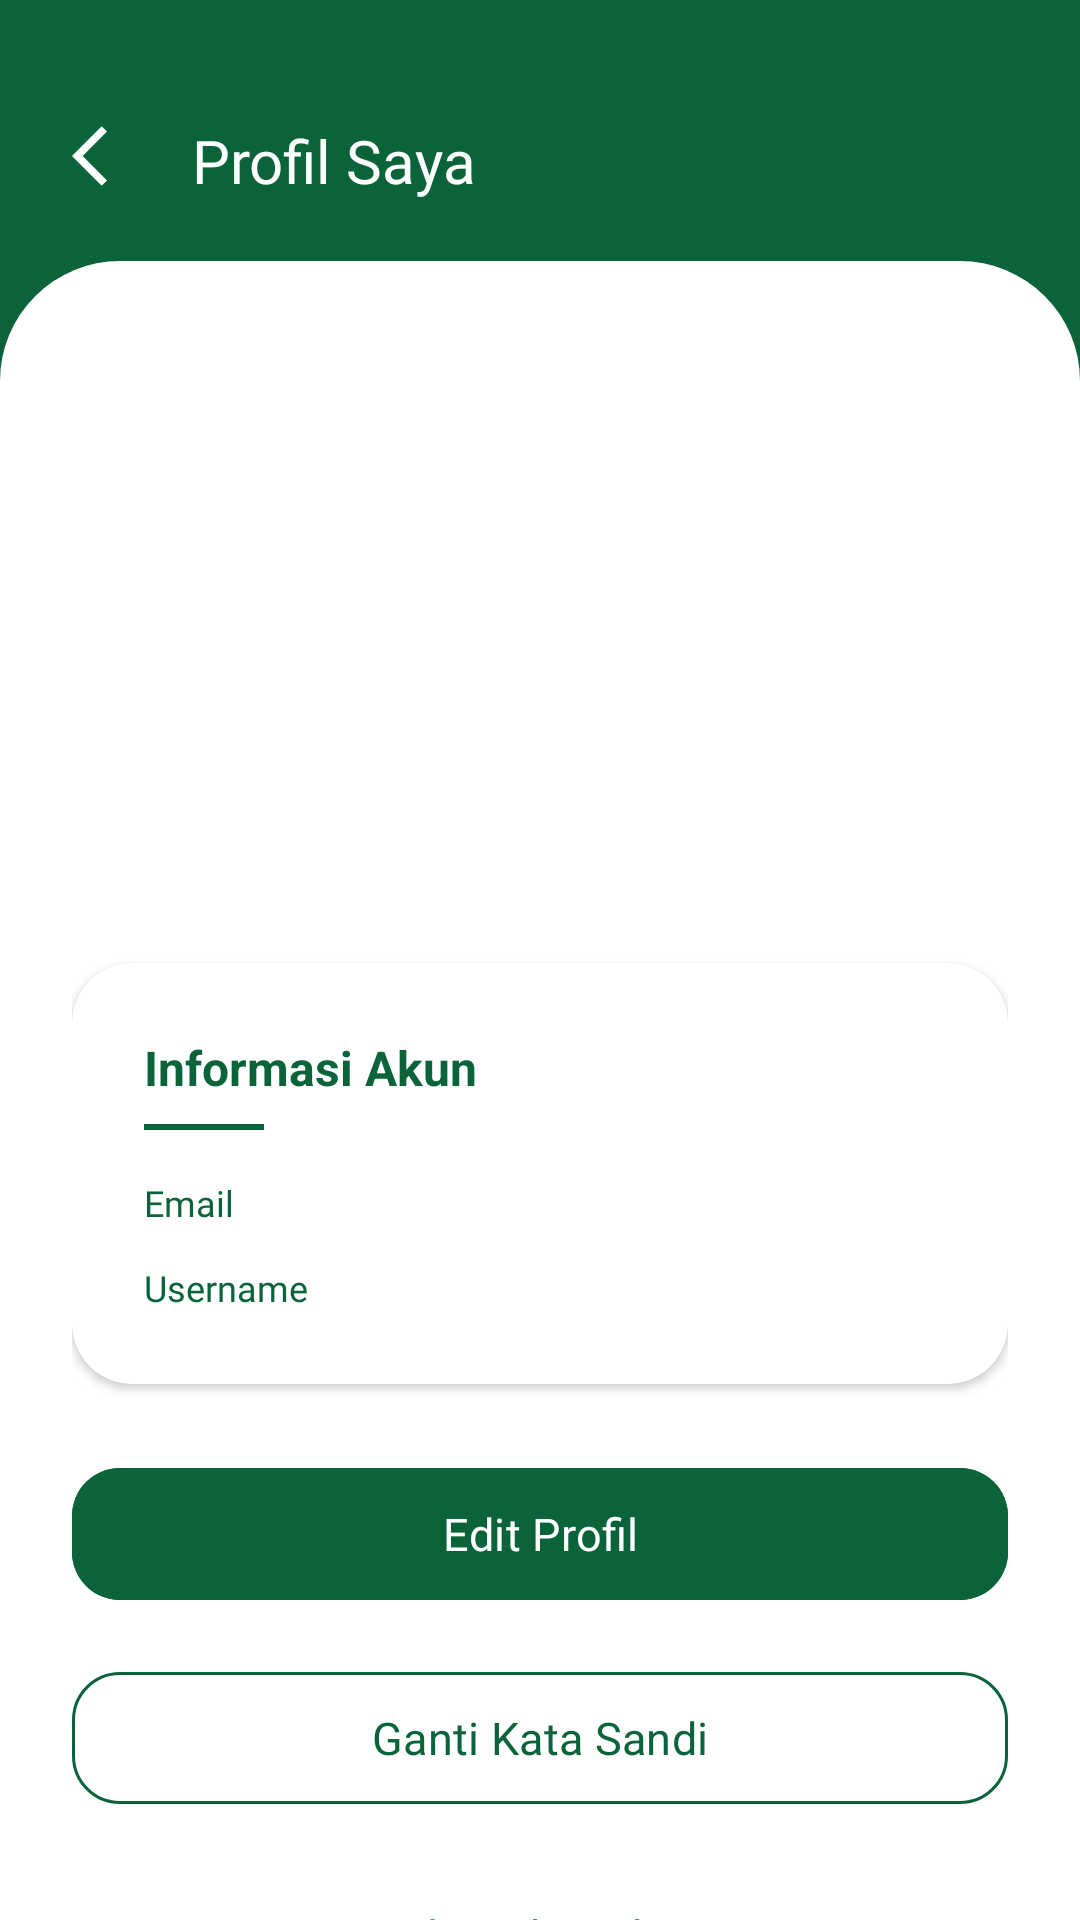

Icons on this 1080*1920 Android screen, each with its box as (x1, y1, x2, y2):
Back: (72, 126, 107, 186)
